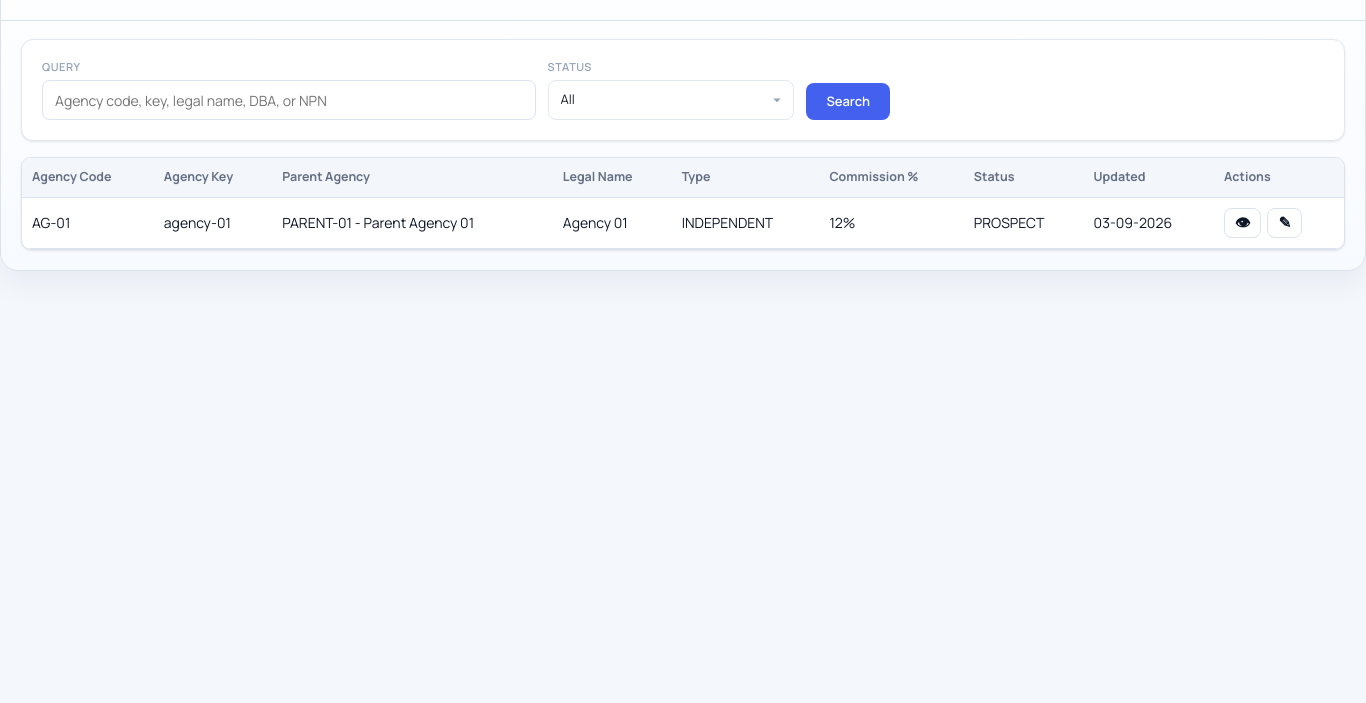
Test case: AgencyOnboardingPage › opens agency details in read-only mode when clicking View
Click the button named "View agency AG-01": (1243, 223) [1224,208,1261,238]
(page scrolled)
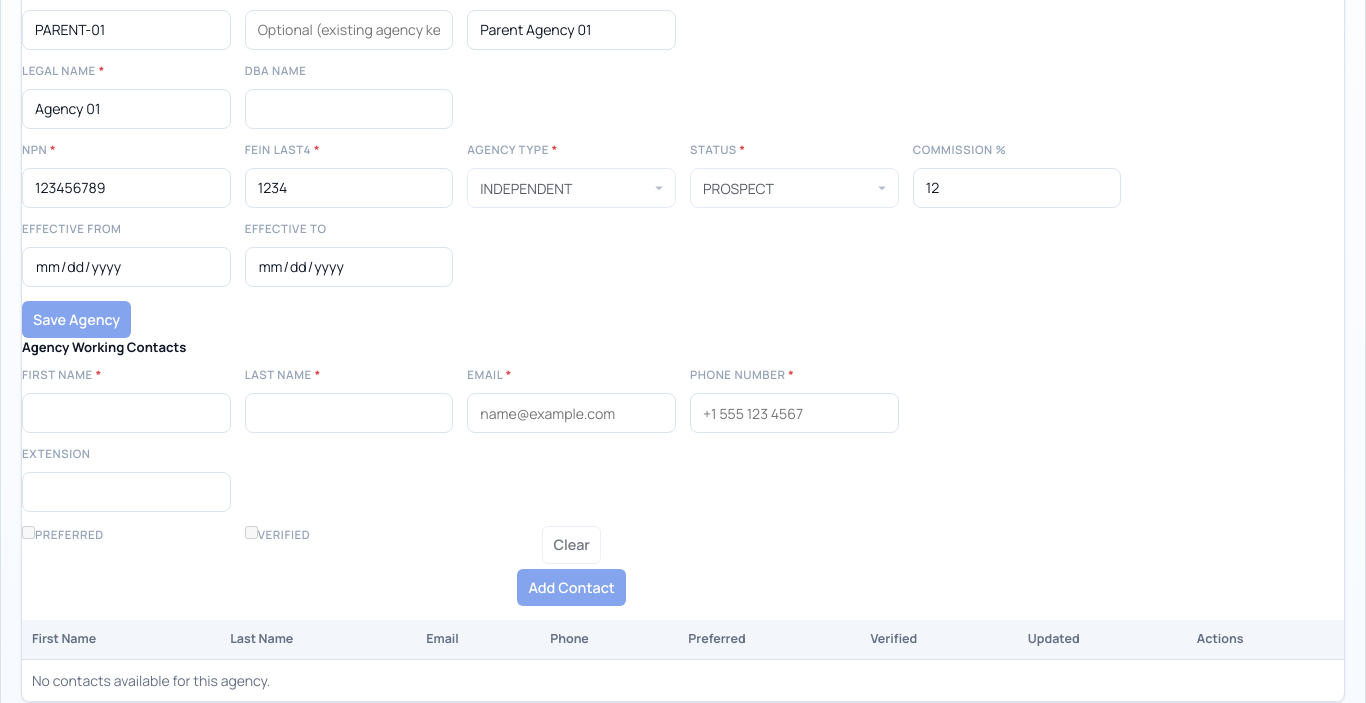
Expected: the button "Save Agency" is disabled, [22,301,131,338]
